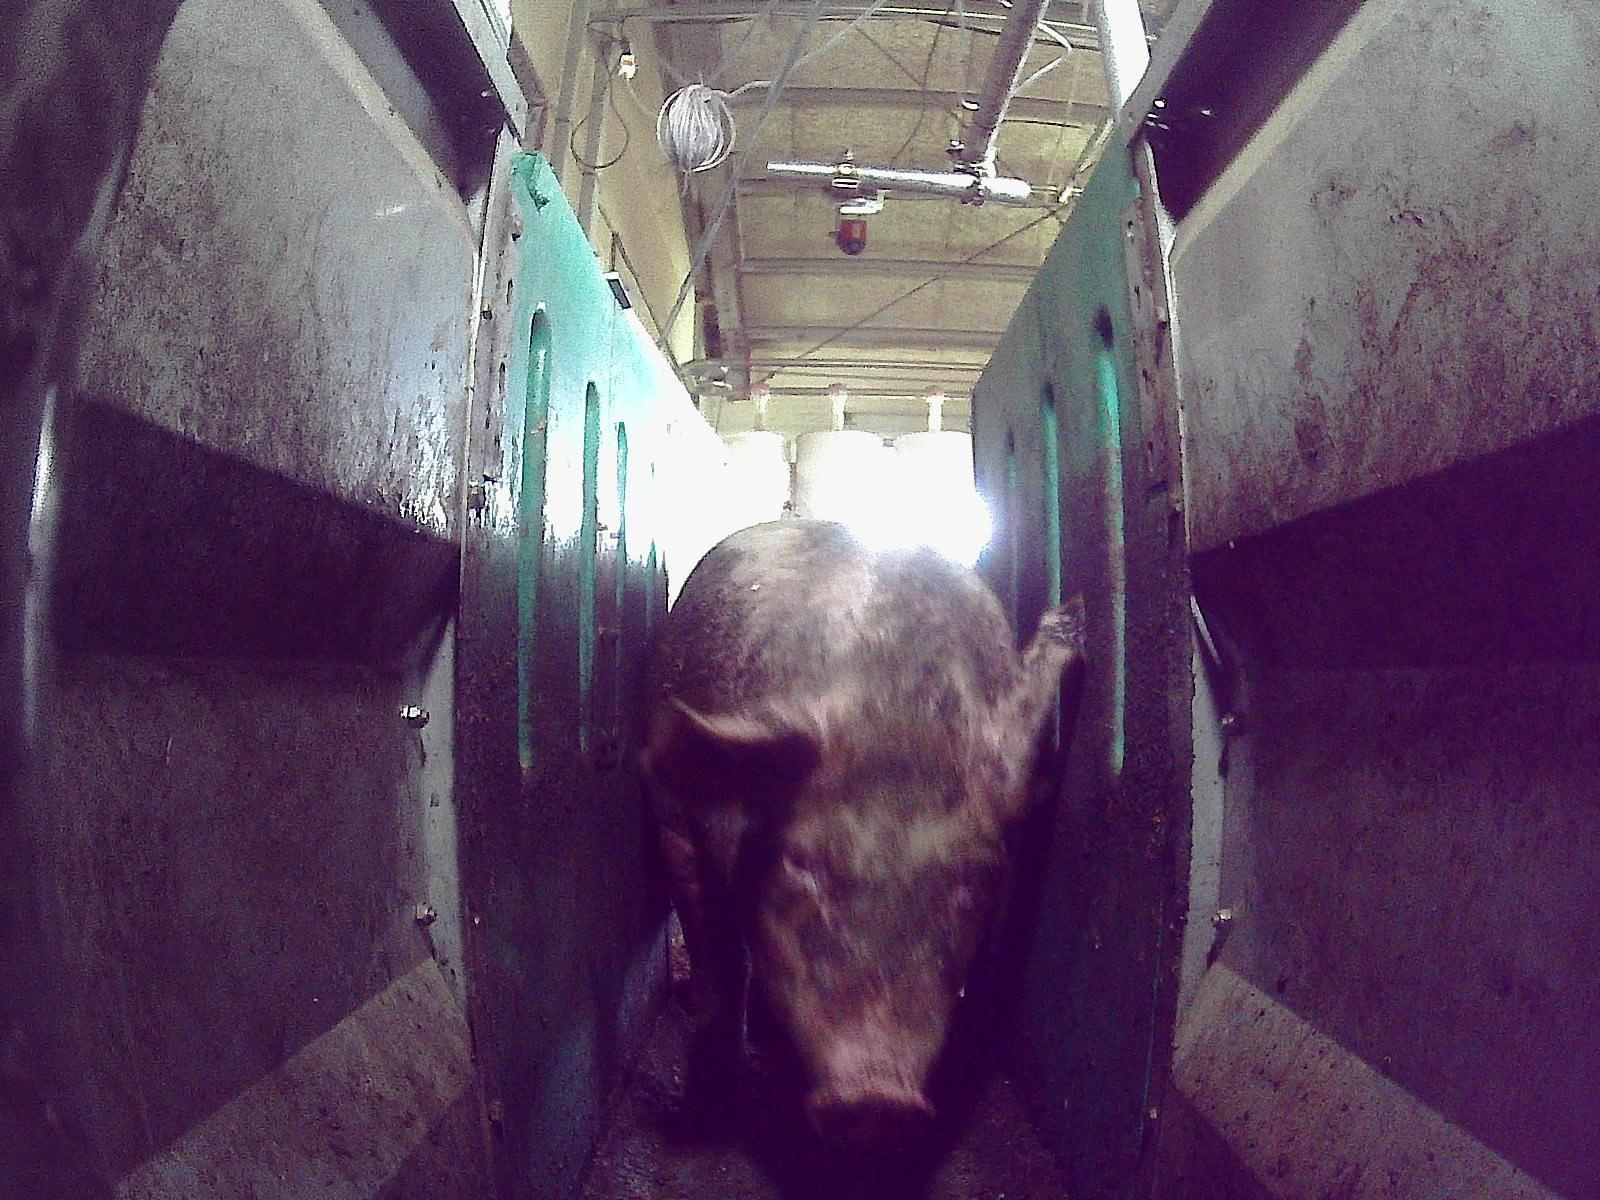Face: (744, 707, 1005, 1146)
